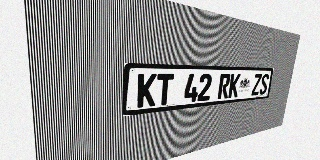2: (197, 74, 212, 101)
4: (183, 74, 200, 103)
K: (137, 74, 157, 108), (228, 74, 241, 98)
R: (217, 74, 231, 99)
S: (259, 74, 269, 95)
T: (156, 74, 174, 106)
Z: (251, 74, 262, 96)
